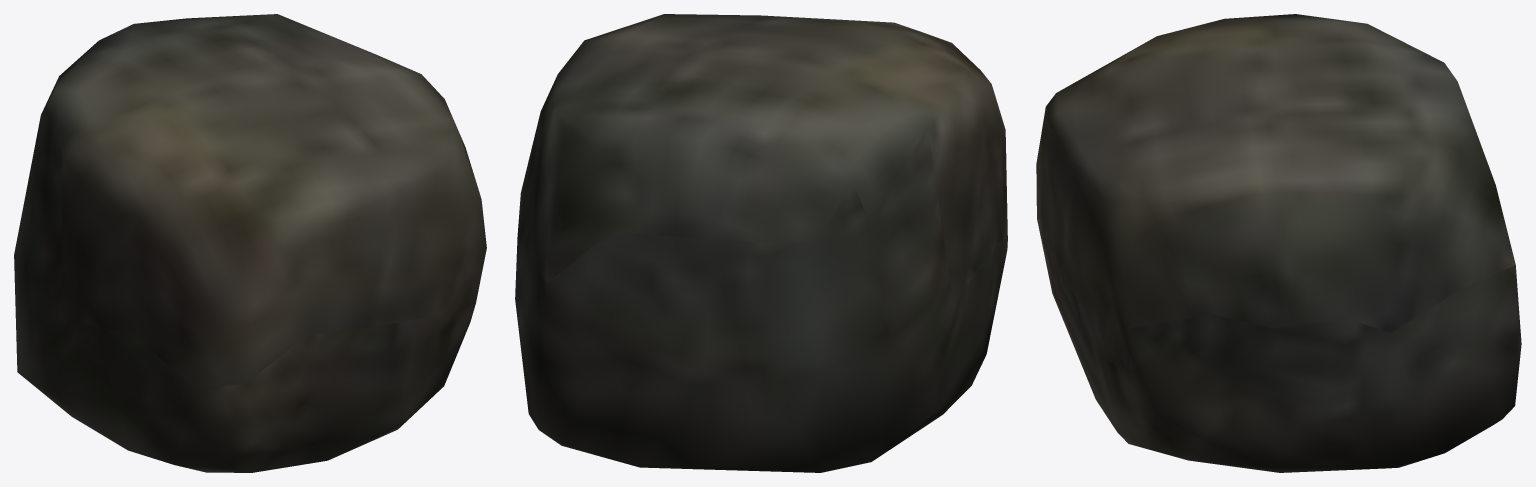
3 views of the same model, side by side, from view 1: azimuth 30°, elevation 25°; view 2: azimuth 150°, elevation 25°; view 3: azimuth 270°, elevation 25° (orthographic). The views are drawn at different scales.
Parts seen in each view (by area): view 1: smallrock3; view 2: smallrock3; view 3: smallrock3.
Boxes of the visible parts, bbox=[...] form: smallrock3: bbox=[14, 14, 486, 472]; smallrock3: bbox=[515, 14, 1007, 472]; smallrock3: bbox=[1036, 14, 1521, 472].
Bounding box in the file's own units: 0.8953 × 0.7606 × 1.
1 material, 1 textured.
